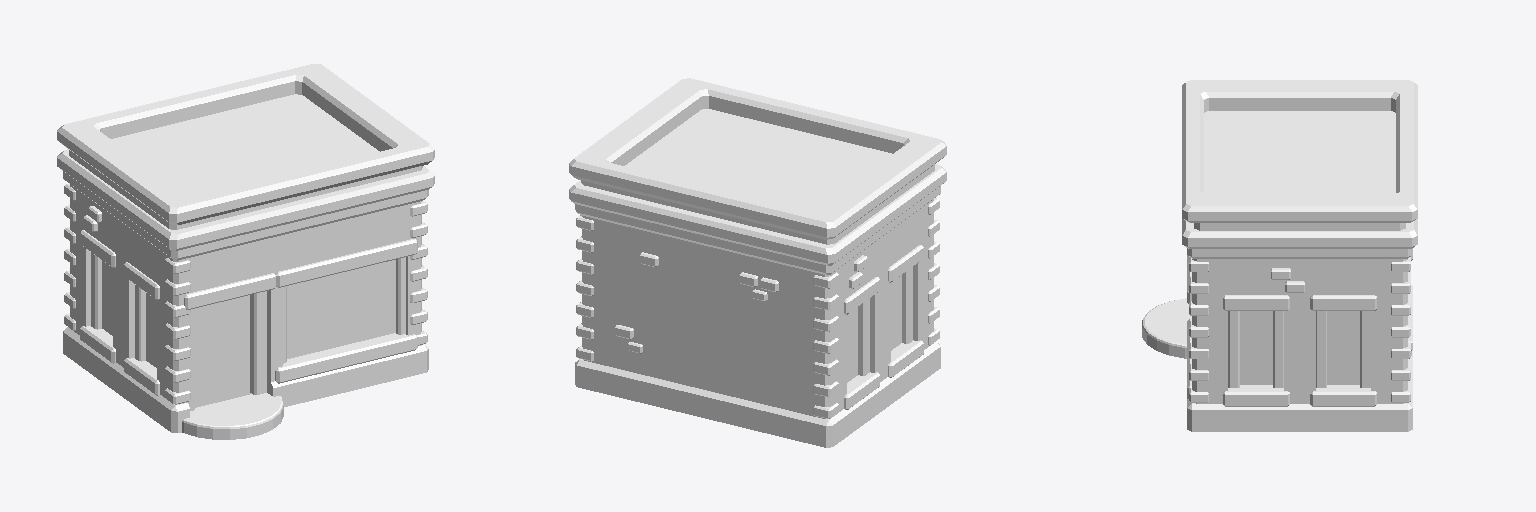
The model's file is bakery_A.obj.
3 renders of one model, left to right at view 1: azimuth 30°, elevation 25°; view 2: azimuth 150°, elevation 25°; view 3: azimuth 270°, elevation 25°, orthographic.
Visible parts, largest first — view 1: bakery_A; view 2: bakery_A; view 3: bakery_A.
Boxes of the visible parts, <box> form: bakery_A: <box>57,64,434,439</box>; bakery_A: <box>569,78,946,447</box>; bakery_A: <box>1142,80,1417,431</box>.
Bounding box in the file's own units: 6.4 × 5.2 × 5.73.